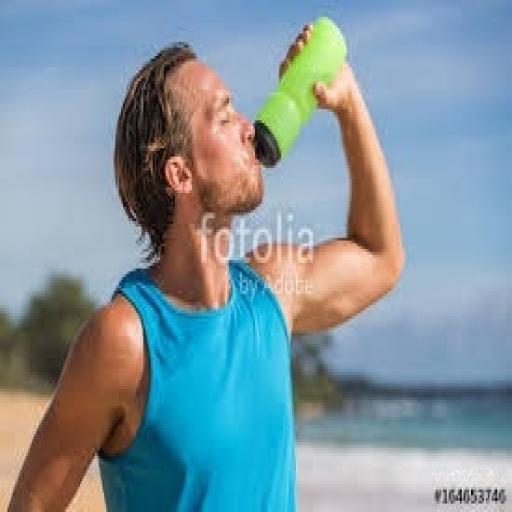drinking: (252, 14, 346, 168)
